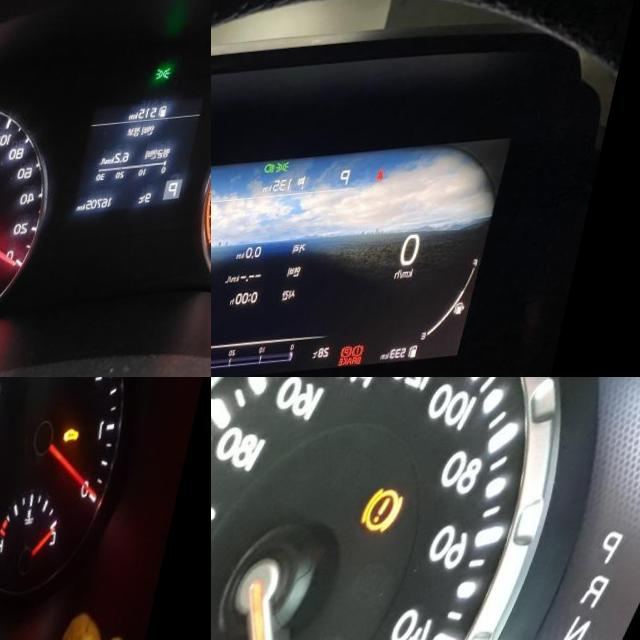Low beam: (275, 168, 288, 181)
SideLamp: (167, 70, 184, 85), (287, 166, 303, 179)
